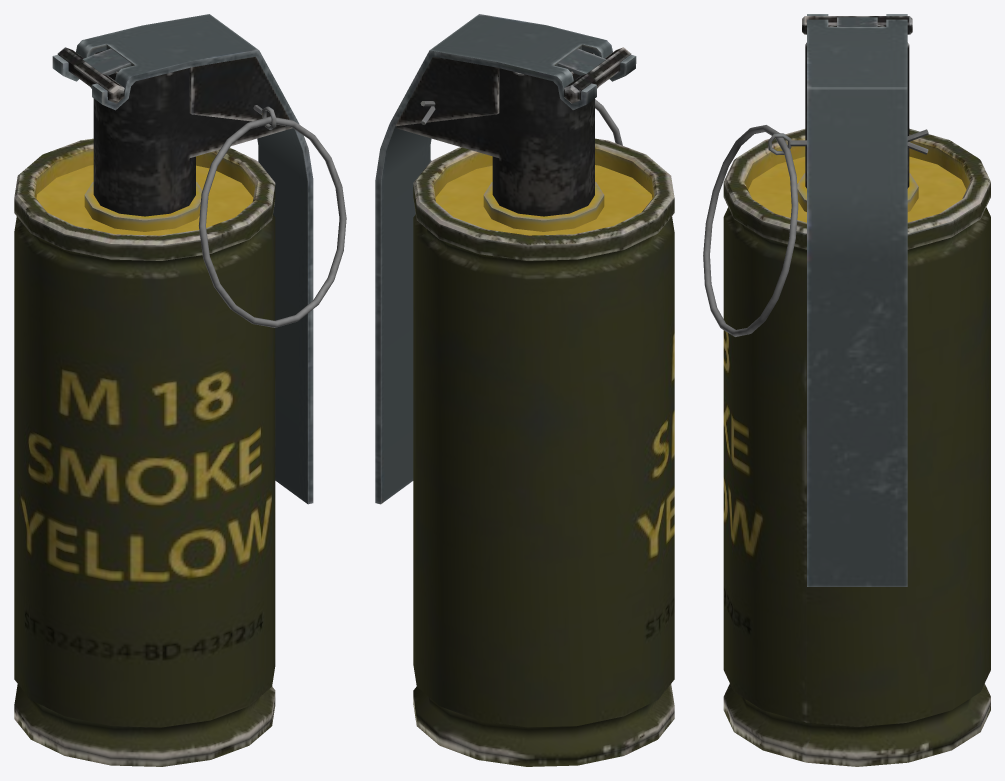
File: Grenade_Smoke.fbx
The picture shows the model from 3 angles, left to right: view 1: azimuth 30°, elevation 25°; view 2: azimuth 150°, elevation 25°; view 3: azimuth 270°, elevation 25°; orthographic projection.
Visible parts, largest first — view 1: GunMesh; view 2: GunMesh; view 3: GunMesh.
Boxes of the visible parts, x1,y1,x2,y2 form: GunMesh: (14, 14, 346, 766); GunMesh: (375, 14, 674, 766); GunMesh: (703, 14, 990, 766).
Bounding box in the file's own units: 0.0631 × 0.145 × 0.0562.
Materials: 1 (1 with a texture image).
